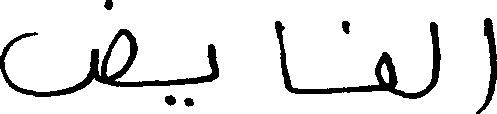X: (0, 0, 137, 101), (274, 16, 293, 97), (374, 47, 396, 99), (485, 13, 496, 113), (429, 17, 439, 96), (208, 39, 219, 86)
